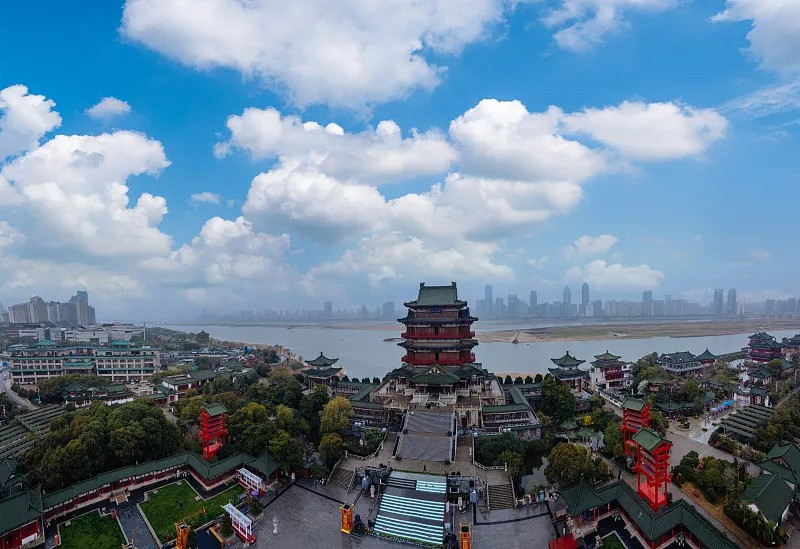Teng: (387, 282, 490, 391)
